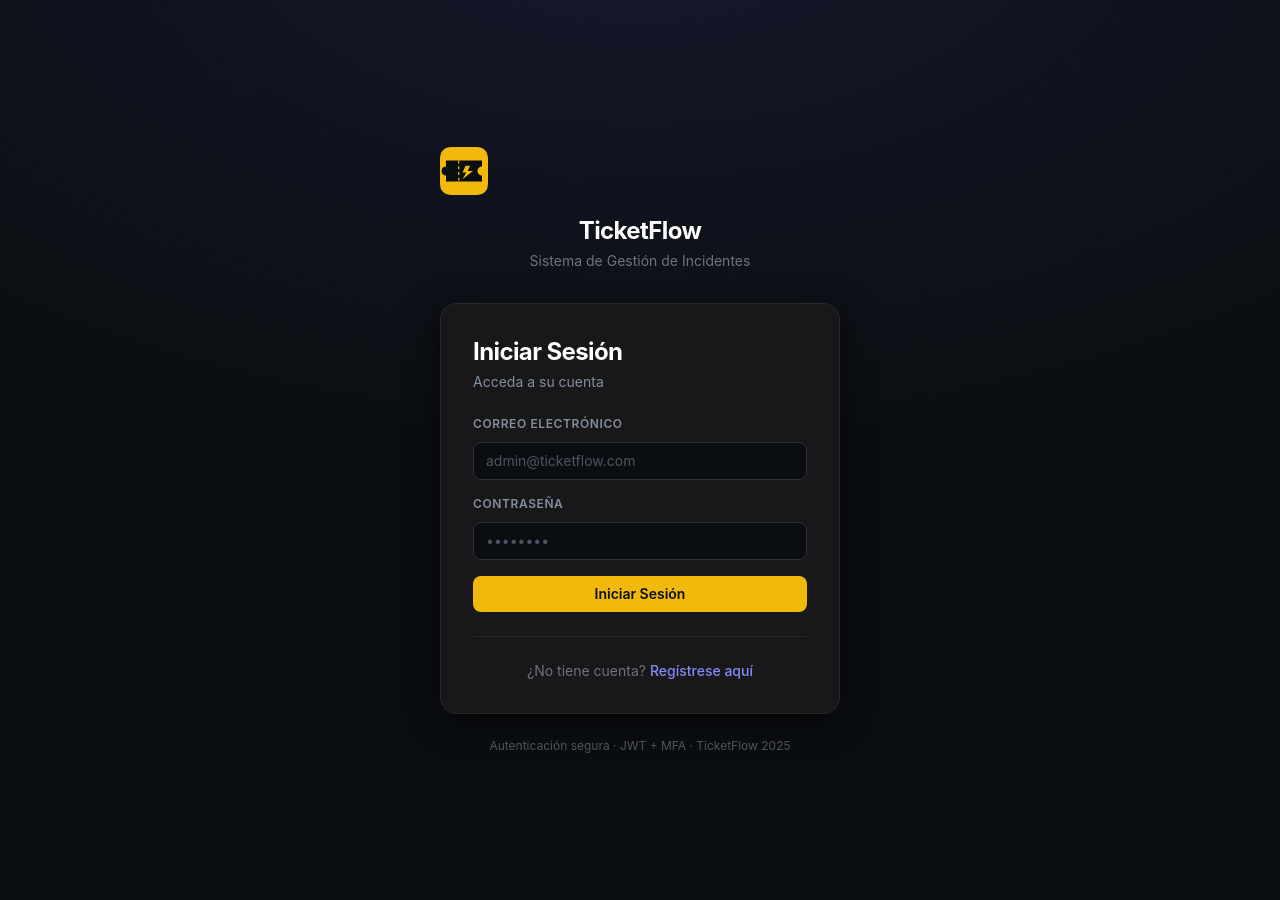
Login — flujo completo › botón muestra "Cargando..." y está deshabilitado durante el request
Type "a@b.com" into the field with placeholder "admin@ticketflow.com".
click(640, 460); type("a@b.com")  # box [473,442,807,480]
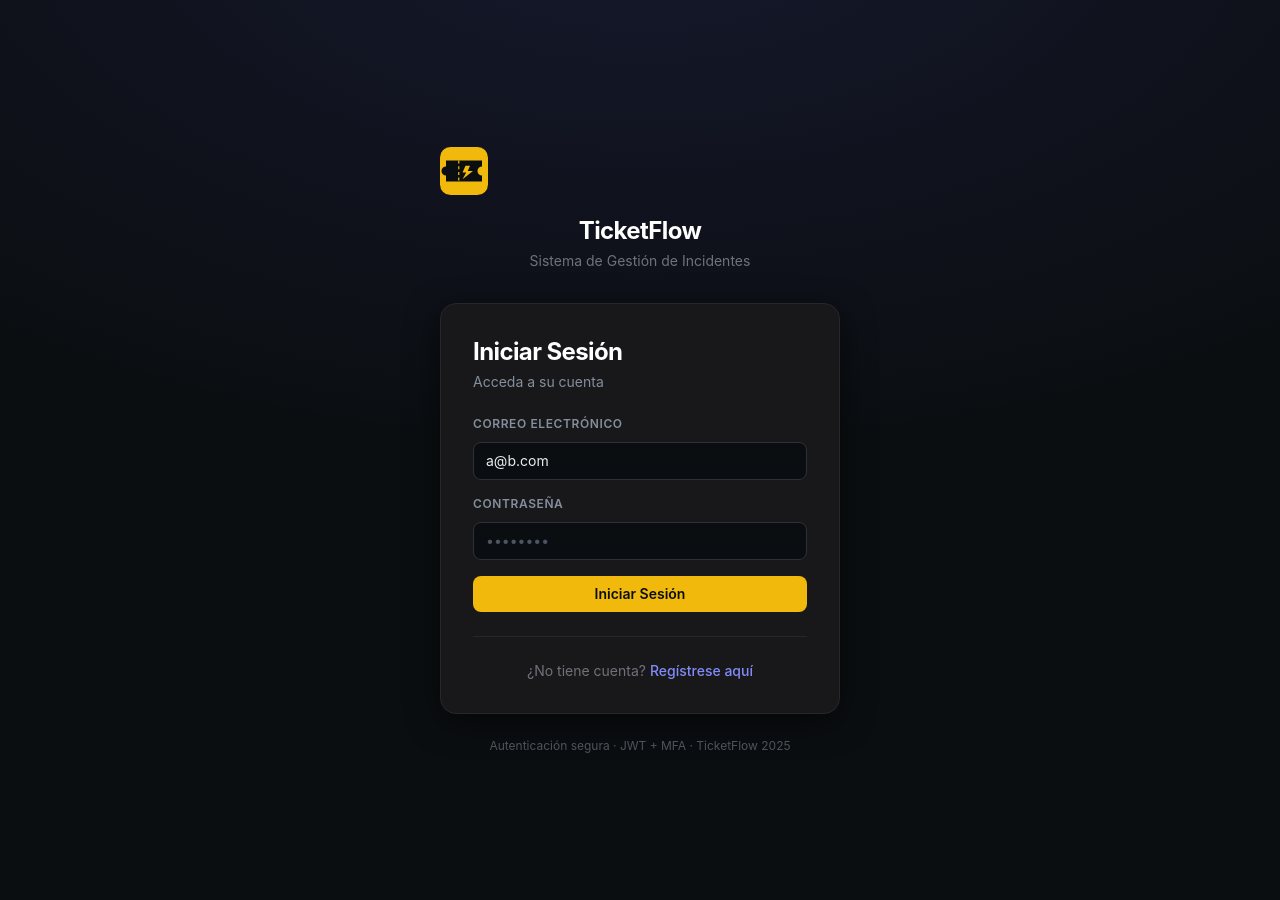
Type "pass" into the password field with placeholder "••••••••".
click(640, 540); type("pass")  # box [473,522,807,560]
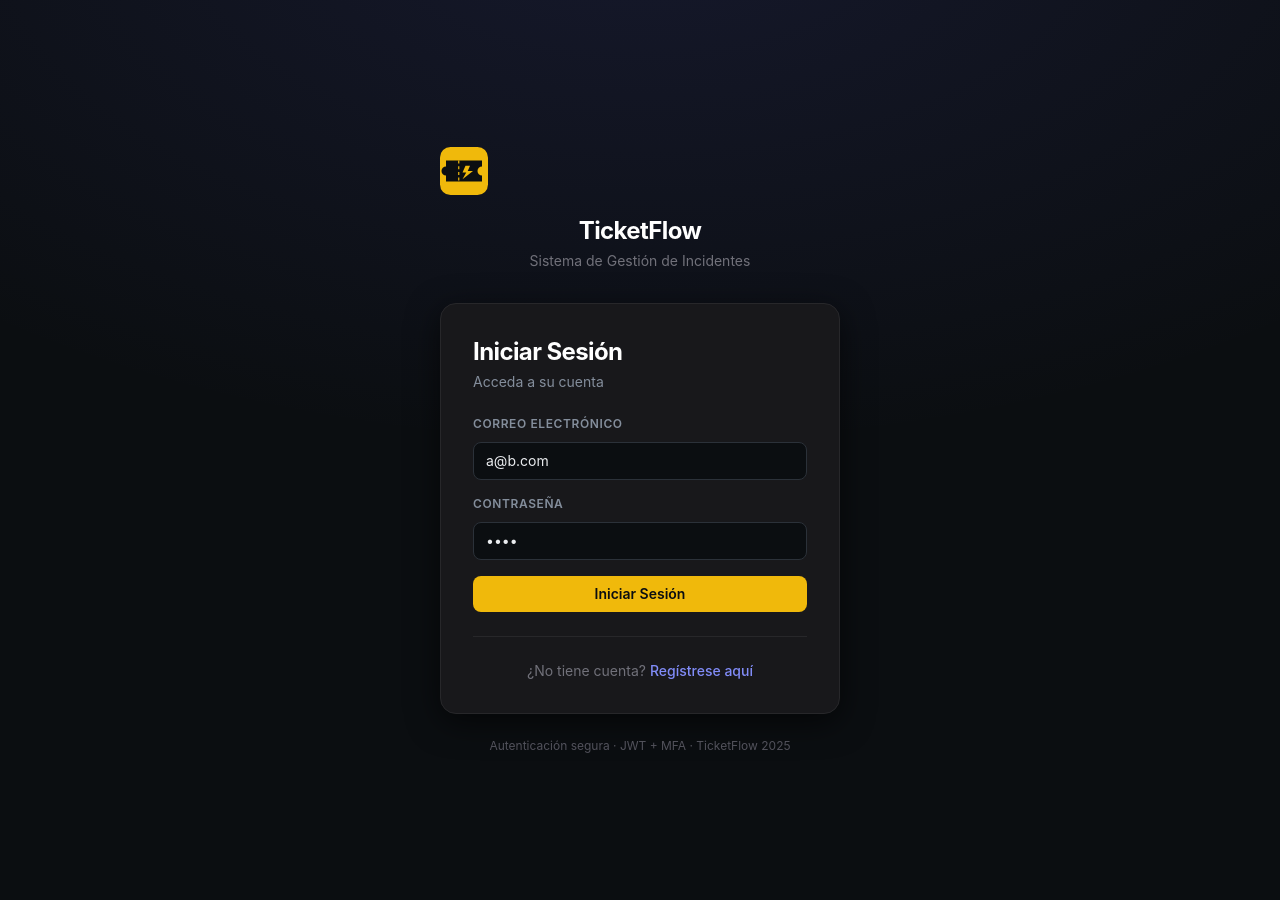
Click the button "Iniciar Sesión".
click(640, 594)  # box [473,576,807,612]
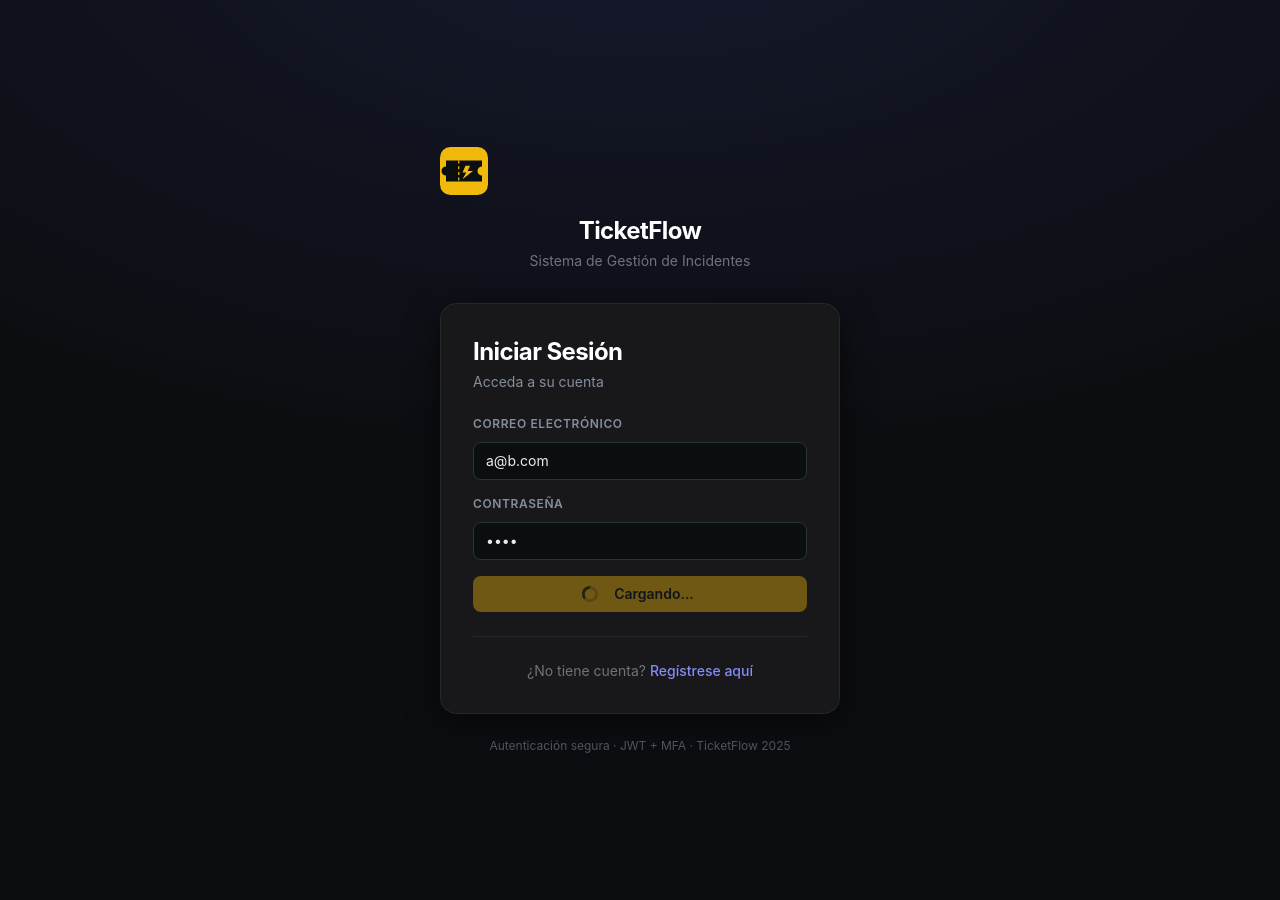
Expected: the button "Cargando..." is disabled, [473,576,807,612]
